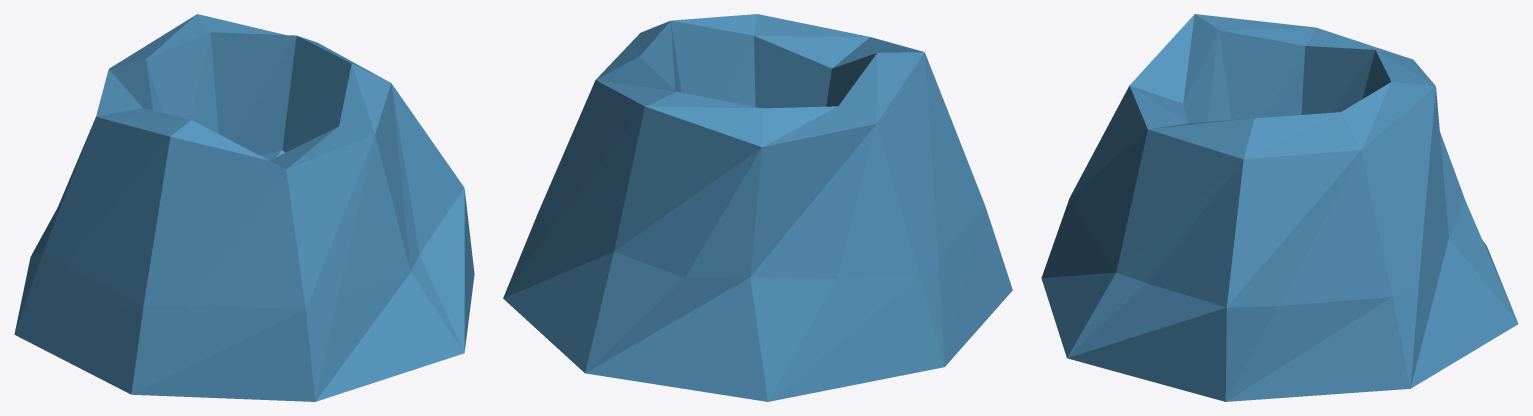
Rendered from SP_Plant04.fbx.
3 renders of one model, left to right at view 1: azimuth 30°, elevation 25°; view 2: azimuth 150°, elevation 25°; view 3: azimuth 270°, elevation 25°, orthographic. The views are drawn at different scales.
Visible parts, largest first — view 1: SP_Plant04; view 2: SP_Plant04; view 3: SP_Plant04.
Boxes of the visible parts, x1=… form: SP_Plant04: x1=14, y1=14, x2=474, y2=401; SP_Plant04: x1=503, y1=14, x2=1012, y2=401; SP_Plant04: x1=1041, y1=14, x2=1518, y2=401.
Bounding box in the file's own units: 35.59 × 18.96 × 35.65.
1 material, 1 textured.
